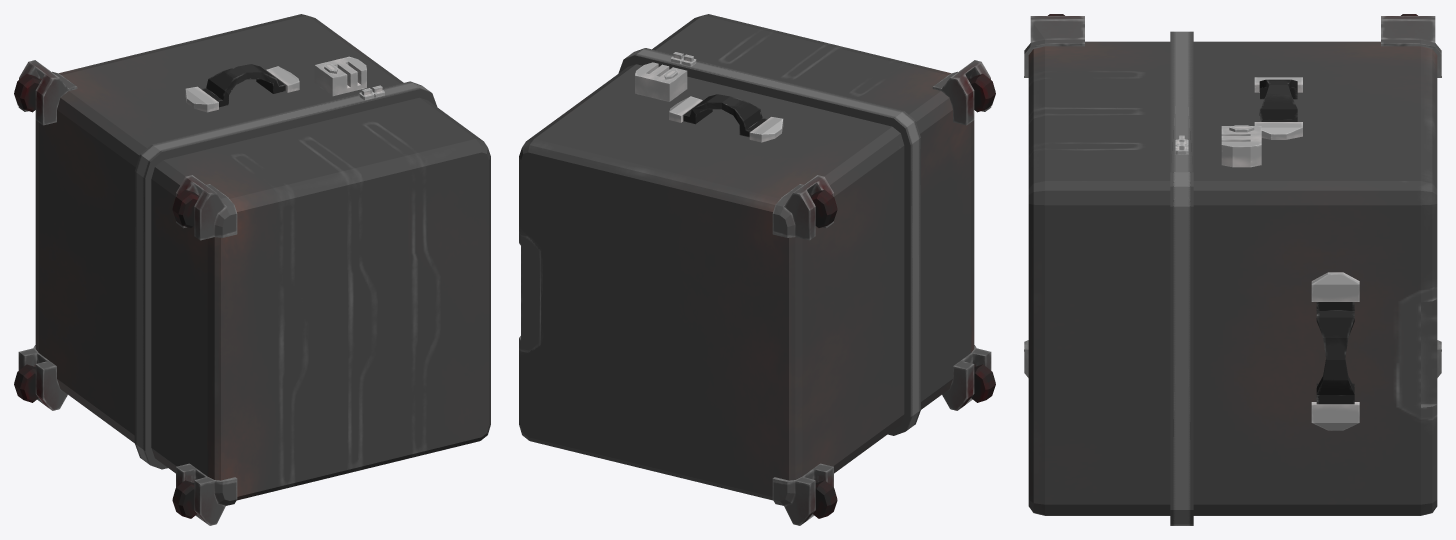
Rendered from suitcase.obj.
The picture shows the model from 3 angles, left to right: view 1: azimuth 30°, elevation 25°; view 2: azimuth 150°, elevation 25°; view 3: azimuth 270°, elevation 25°; orthographic projection. The views are drawn at different scales.
Size of the model in its own units: 1 by 1 by 1.
1 material, 1 textured.
